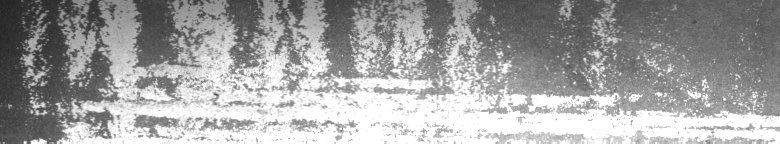kb: (8, 4, 764, 136)
